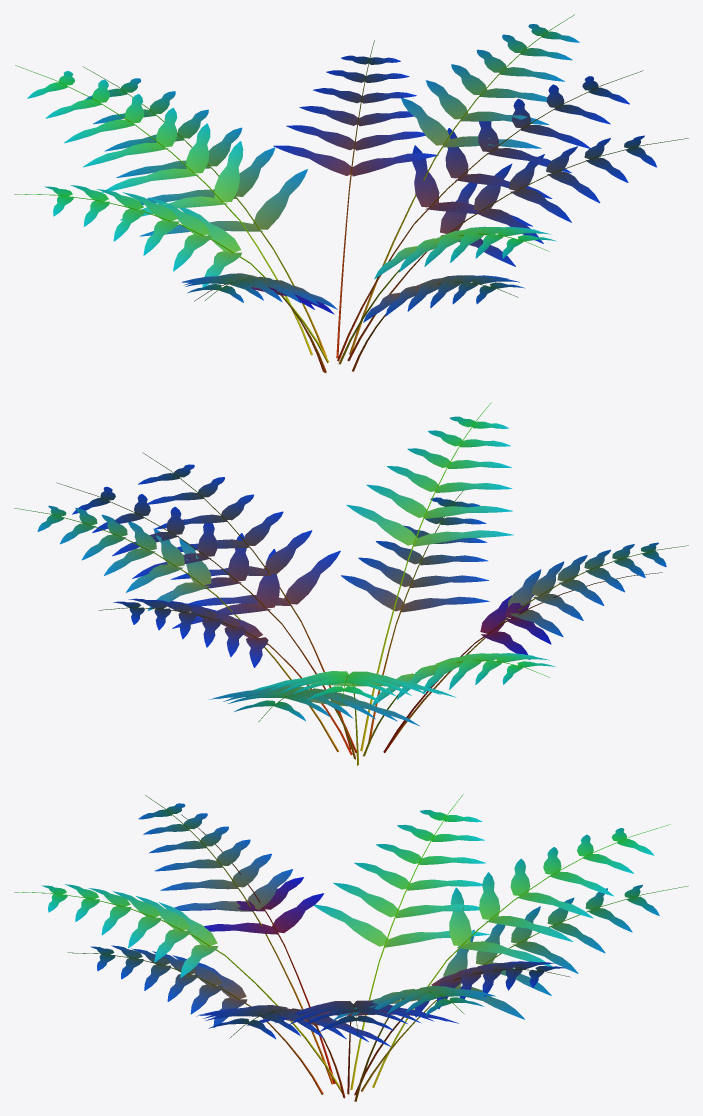
Rendered from SM_Fern_Bracken_A_LOD1.fbx.
3 views of the same model, one above another, from view 1: azimuth 30°, elevation 25°; view 2: azimuth 150°, elevation 25°; view 3: azimuth 270°, elevation 25° (orthographic). The views are drawn at different scales.
Visible parts, largest first — view 1: SM_Fern_Bracken_A_LOD1; view 2: SM_Fern_Bracken_A_LOD1; view 3: SM_Fern_Bracken_A_LOD1.
Boxes of the visible parts, left/top/right/bottom form: SM_Fern_Bracken_A_LOD1: left=14, top=14, right=688, bottom=372; SM_Fern_Bracken_A_LOD1: left=14, top=402, right=688, bottom=765; SM_Fern_Bracken_A_LOD1: left=14, top=794, right=688, bottom=1101.
Size of the model in its own units: 2.12 by 0.8144 by 2.28.
